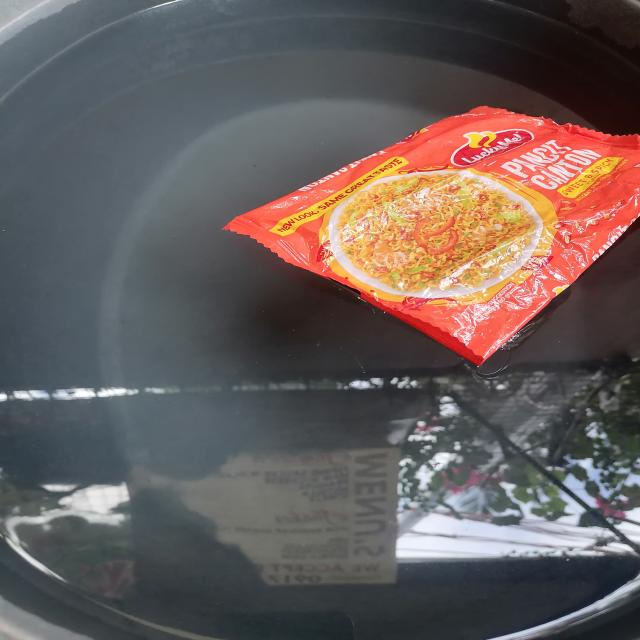Plastic Wrapper: (224, 107, 640, 365)
